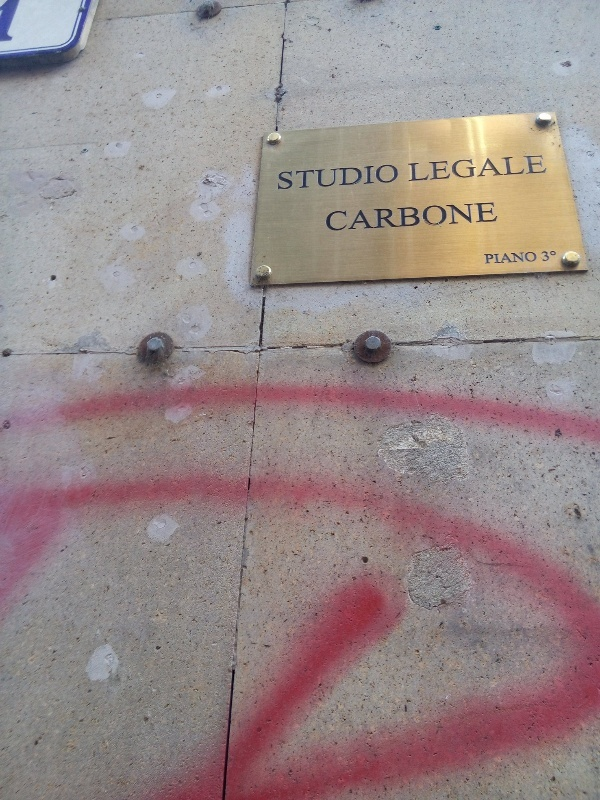text: (337, 198, 352, 235), (353, 198, 368, 235), (369, 198, 384, 235), (385, 198, 400, 235), (401, 198, 416, 235), (417, 198, 432, 235), (433, 198, 448, 235), (449, 198, 464, 235), (465, 198, 480, 235), (481, 198, 496, 235), (289, 160, 304, 192), (305, 160, 320, 192), (321, 160, 336, 192), (337, 160, 352, 192), (353, 160, 368, 192), (369, 160, 384, 192), (417, 154, 432, 185), (433, 154, 448, 185), (449, 154, 464, 185), (465, 154, 480, 185), (481, 154, 496, 185), (497, 154, 512, 185), (513, 154, 528, 185), (529, 154, 544, 185), (385, 160, 398, 192), (325, 198, 336, 235), (278, 160, 288, 192), (407, 154, 416, 185), (497, 251, 512, 265), (513, 251, 528, 265), (484, 251, 496, 265), (545, 251, 557, 262), (529, 251, 537, 265), (545, 154, 548, 185), (497, 198, 498, 235), (542, 251, 544, 262)
